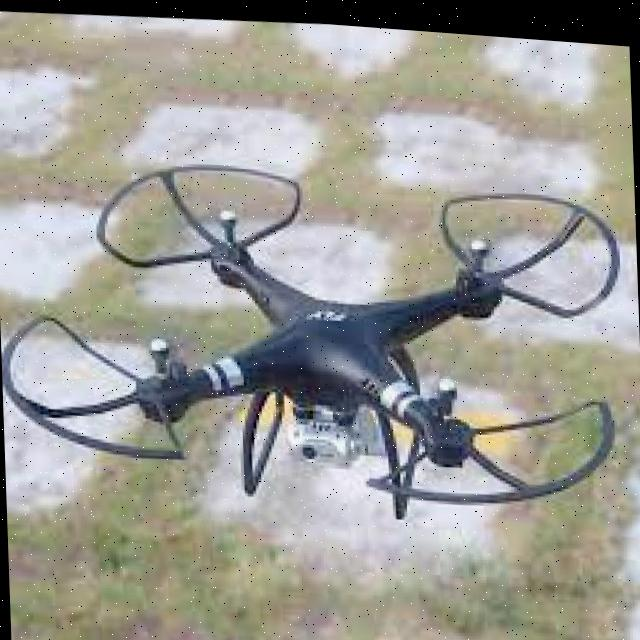drone: (0, 118, 631, 555)
